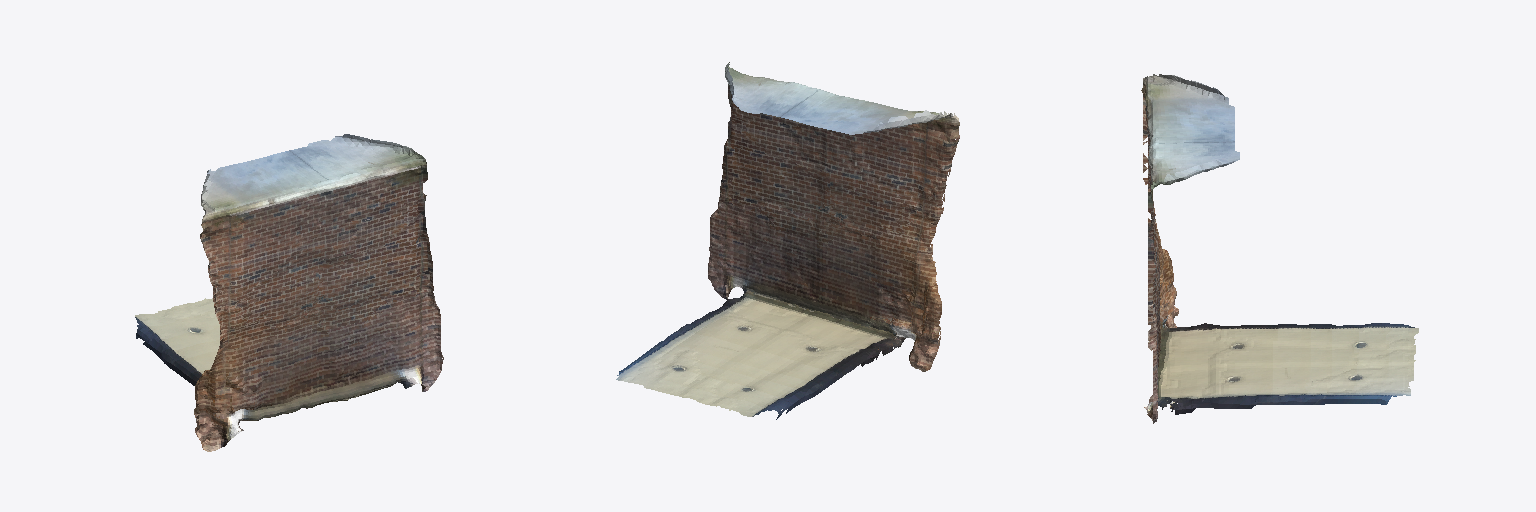
3 renders of one model, left to right at view 1: azimuth 30°, elevation 25°; view 2: azimuth 150°, elevation 25°; view 3: azimuth 270°, elevation 25°, orthographic.
Size of the model in its own units: 4.34 by 4.41 by 4.24.
Materials: 1 (1 with a texture image).